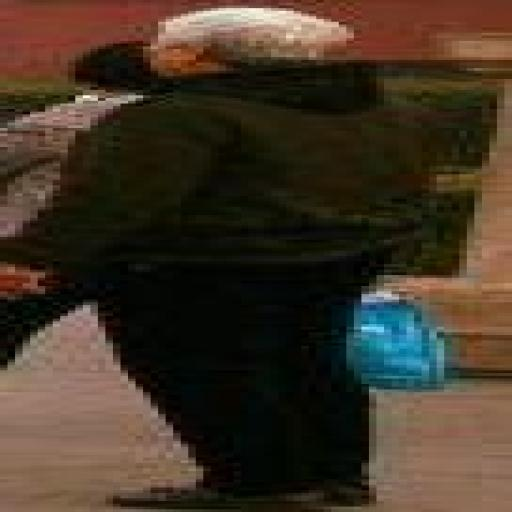person: (0, 6, 429, 509), (0, 41, 158, 236)
